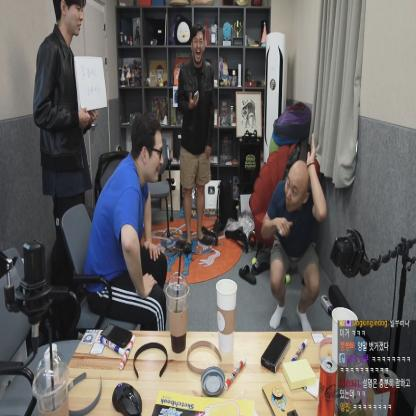streamer: (84, 113, 167, 331), (33, 0, 93, 271), (262, 134, 320, 331), (177, 23, 215, 254)
